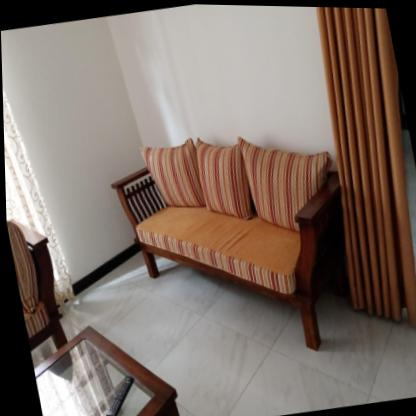Sofa: (102, 113, 373, 376)
